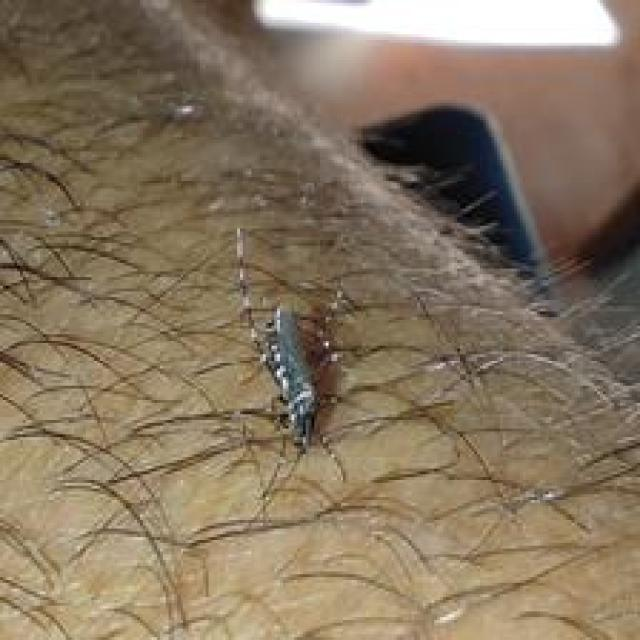Aedes albopictus: (231, 226, 360, 454)
